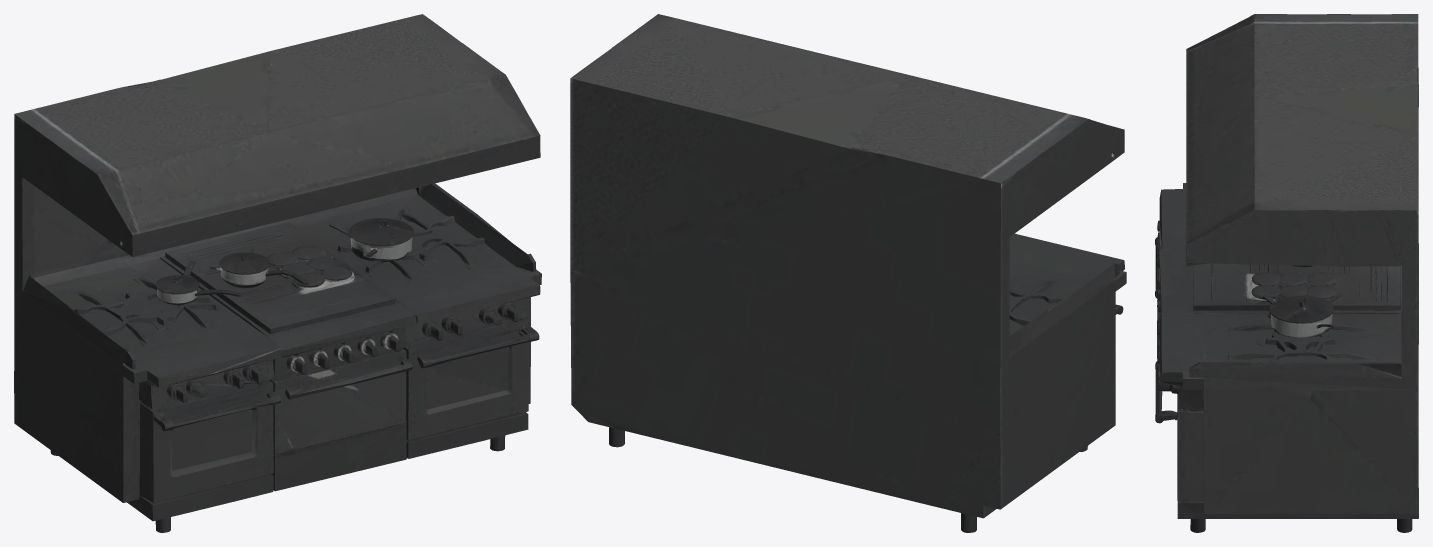
File: srvRange.glb
3 views of the same model, side by side, from view 1: azimuth 30°, elevation 25°; view 2: azimuth 150°, elevation 25°; view 3: azimuth 270°, elevation 25° (orthographic). The views are drawn at different scales.
Size of the model in its own units: 1.9 by 1.53 by 1.08.
Materials: 1 (1 with a texture image).
